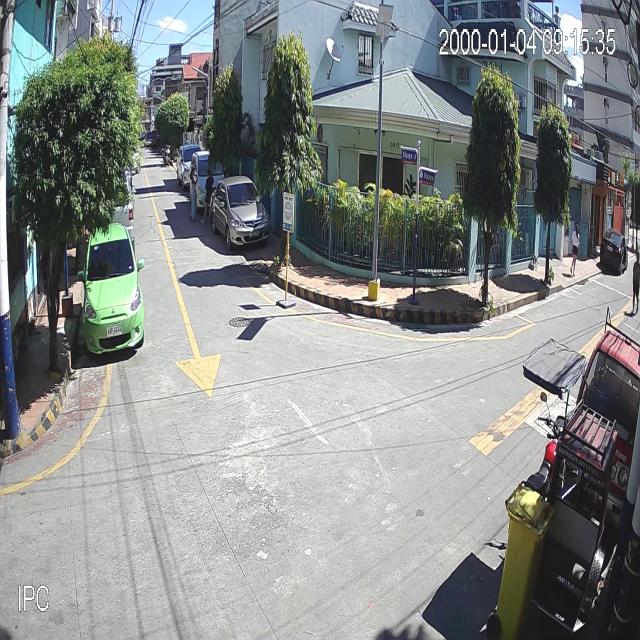standing: (200, 167, 214, 224)
walking: (629, 250, 640, 317), (188, 166, 201, 221), (568, 222, 580, 278)
